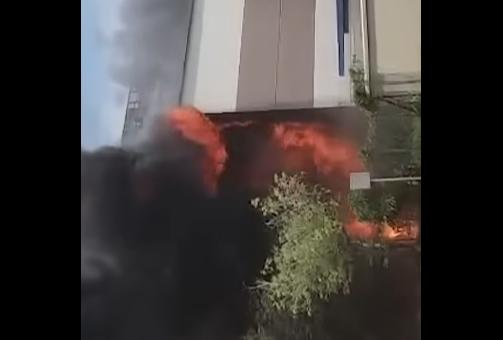fire: (154, 102, 401, 244)
smoke: (81, 139, 275, 340), (117, 0, 210, 135)
